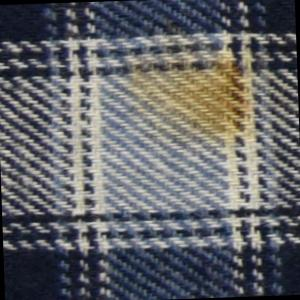Oil Stain: (121, 19, 262, 151)
